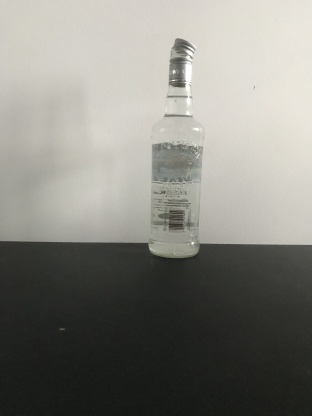nakretka: (167, 36, 197, 88)
